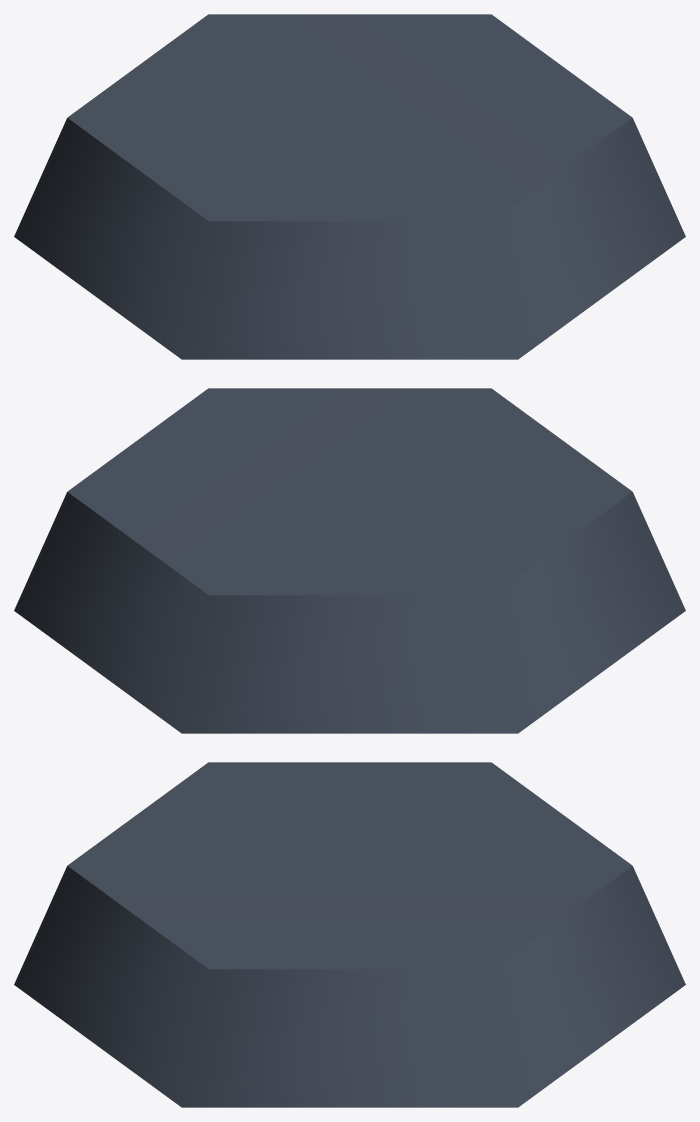
File: AnteneHolder_1_D.glb
3 renders of one model, top to bottom at view 1: azimuth 30°, elevation 25°; view 2: azimuth 150°, elevation 25°; view 3: azimuth 270°, elevation 25°, orthographic.
Visible parts, largest first — view 1: AnteneHolder_1_D; view 2: AnteneHolder_1_D; view 3: AnteneHolder_1_D.
Part boxes in pixels (x1,y1,x2,y2): AnteneHolder_1_D: (14,14,685,359); AnteneHolder_1_D: (14,388,685,733); AnteneHolder_1_D: (14,762,685,1107).
Size of the model in its own units: 0.2947 by 0.0666 by 0.3403.
1 material, 1 textured.
